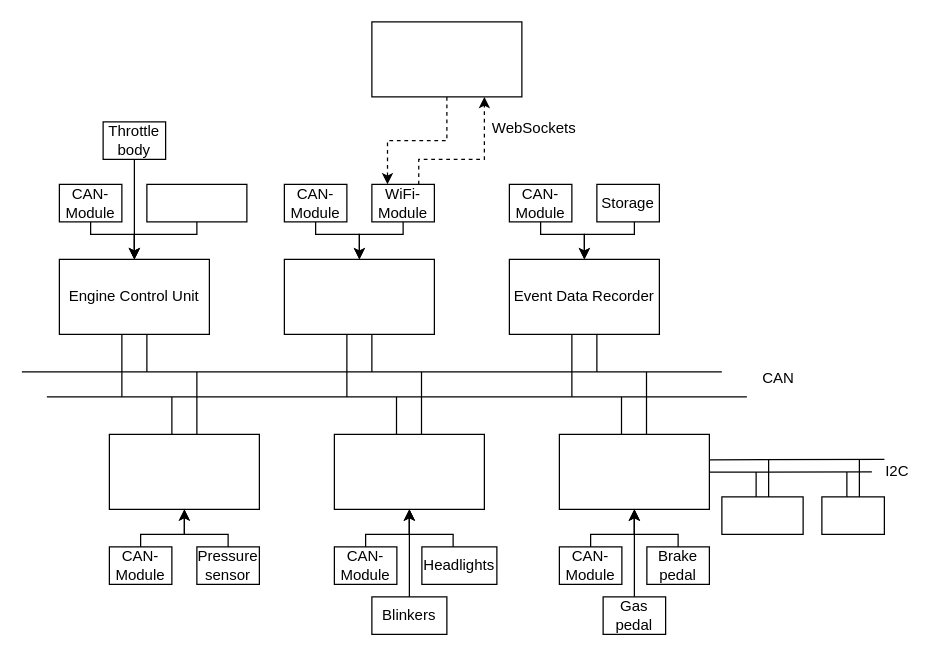
The diagram is 944 pixels wide and 656 high, and some of its shapes have lost their labels. Each missing label, with the centre of its shape:
Application: point 446,59
Body controller: point 408,471
Infotainment: point 633,471
LCD-Display: point 852,515
Telematics: point 358,296
Temperature sensor: point 196,202
Tire-pressure monitor: point 183,471
Turn signal lever: point 762,515
